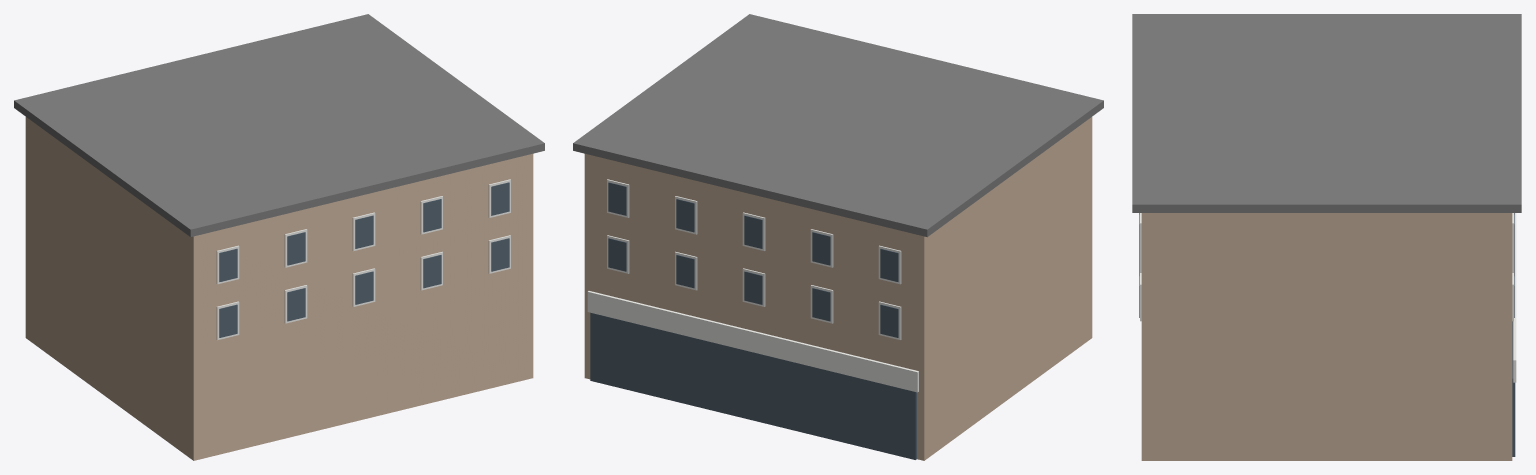
Rendered from commercial_block.glb.
3 renders of one model, left to right at view 1: azimuth 30°, elevation 25°; view 2: azimuth 150°, elevation 25°; view 3: azimuth 270°, elevation 25°, orthographic. The views are drawn at different scales.
Parts seen in each view (by area): view 1: commercial_body, commercial_cornice, shop_wing_5.2_4_-1, shop_wing_5.2_1_-1, shop_wing_5.2_2_-1, shop_wing_5.2_3_-1, shop_wing_7.4_0_-1, shop_wing_7.4_1_-1, shop_wing_7.4_2_-1, shop_wing_7.4_4_-1, shop_wing_5.2_0_-1, shop_wing_7.4_3_-1; view 2: commercial_body, commercial_cornice, commercial_shopfront, commercial_signband, shop_wing_5.2_4_1, shop_wing_5.2_1_1, shop_wing_5.2_2_1, shop_wing_5.2_3_1, shop_wing_7.4_0_1, shop_wing_7.4_1_1, shop_wing_7.4_2_1, shop_wing_7.4_4_1 (+2 smaller); view 3: commercial_body, commercial_cornice, commercial_signband, commercial_shopfront.
Boxes of the visible parts, bbox=[...] form: commercial_body: bbox=[25, 117, 533, 460]; commercial_cornice: bbox=[14, 14, 544, 237]; shop_wing_5.2_4_-1: bbox=[491, 238, 509, 271]; shop_wing_5.2_1_-1: bbox=[287, 288, 305, 321]; shop_wing_5.2_2_-1: bbox=[355, 271, 373, 304]; shop_wing_5.2_3_-1: bbox=[423, 255, 441, 288]; shop_wing_7.4_0_-1: bbox=[219, 248, 237, 281]; shop_wing_7.4_1_-1: bbox=[287, 232, 305, 265]; shop_wing_7.4_2_-1: bbox=[355, 215, 373, 248]; shop_wing_7.4_4_-1: bbox=[491, 182, 509, 215]; shop_wing_5.2_0_-1: bbox=[219, 304, 237, 337]; shop_wing_7.4_3_-1: bbox=[423, 199, 441, 232]; commercial_body: bbox=[584, 117, 1092, 460]; commercial_cornice: bbox=[573, 14, 1103, 237]; commercial_shopfront: bbox=[590, 312, 916, 459]; commercial_signband: bbox=[587, 291, 918, 392]; shop_wing_5.2_4_1: bbox=[608, 238, 626, 271]; shop_wing_5.2_1_1: bbox=[812, 288, 830, 321]; shop_wing_5.2_2_1: bbox=[744, 271, 762, 304]; shop_wing_5.2_3_1: bbox=[676, 255, 694, 288]; shop_wing_7.4_0_1: bbox=[880, 248, 898, 281]; shop_wing_7.4_1_1: bbox=[812, 232, 830, 265]; shop_wing_7.4_2_1: bbox=[744, 215, 762, 248]; shop_wing_7.4_4_1: bbox=[608, 182, 626, 215]; commercial_body: bbox=[1141, 213, 1512, 460]; commercial_cornice: bbox=[1132, 14, 1521, 212]; commercial_signband: bbox=[1513, 213, 1516, 382]; commercial_shopfront: bbox=[1512, 321, 1515, 456].
Bounding box in the file's own units: 14.6 × 9.3 × 12.6.
